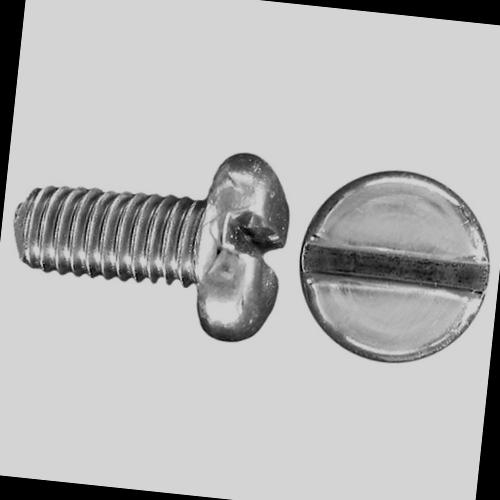screw: (294, 160, 492, 369)
